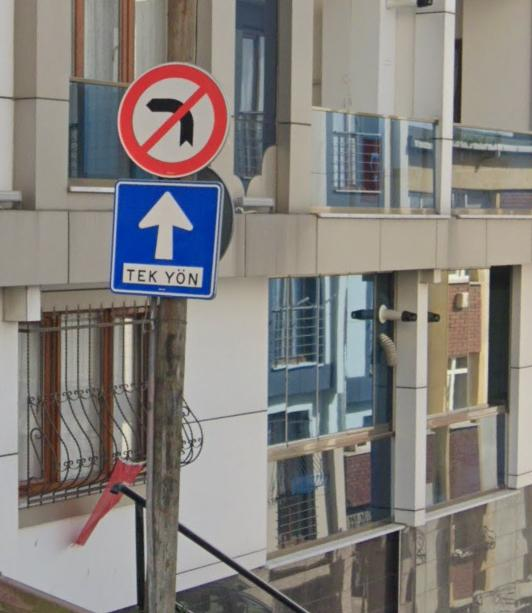forward: (115, 180, 220, 298)
leftturnsareforbidden: (121, 64, 228, 177)
